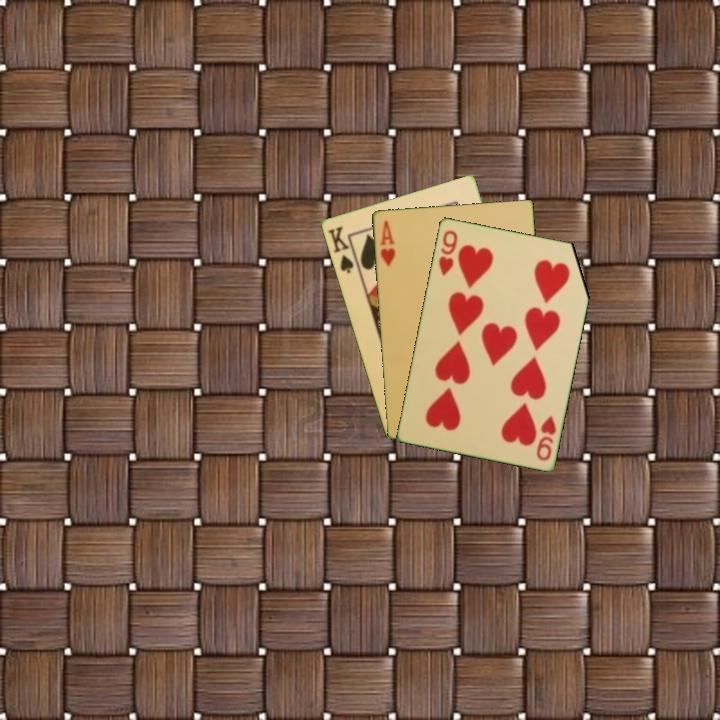9h: (533, 412, 559, 463), (435, 226, 460, 278)
Ah: (376, 217, 398, 269)
Ks: (324, 222, 361, 276)
